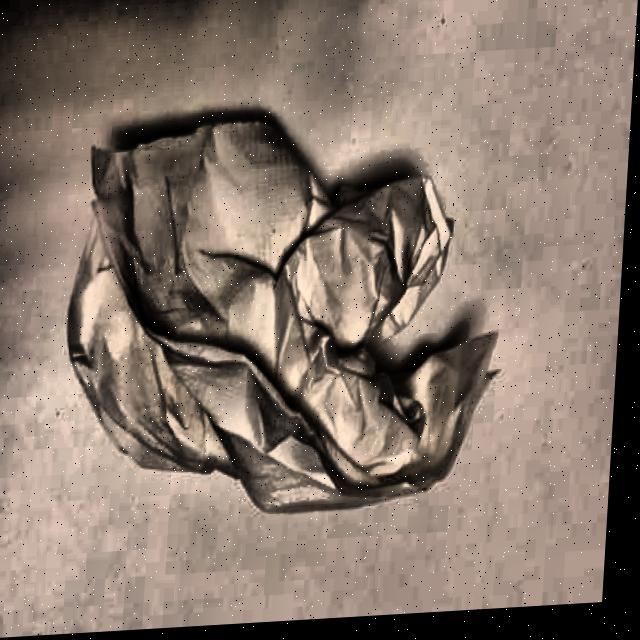paper: (49, 78, 505, 538)
